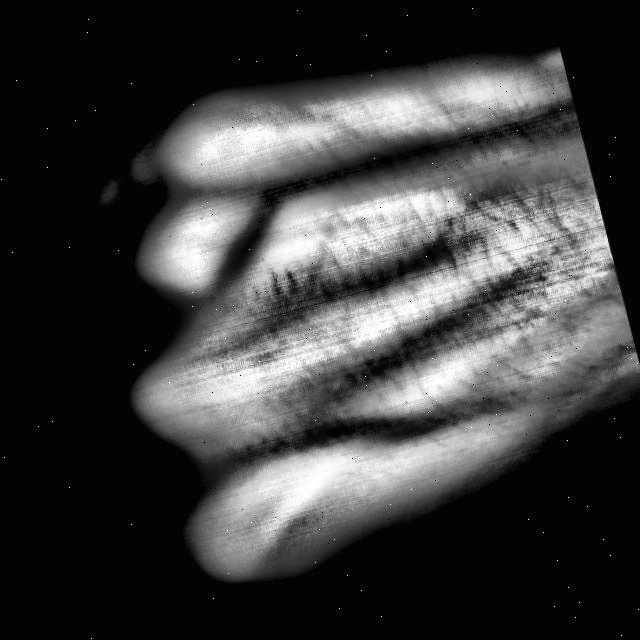Vein: (283, 115, 515, 204)
